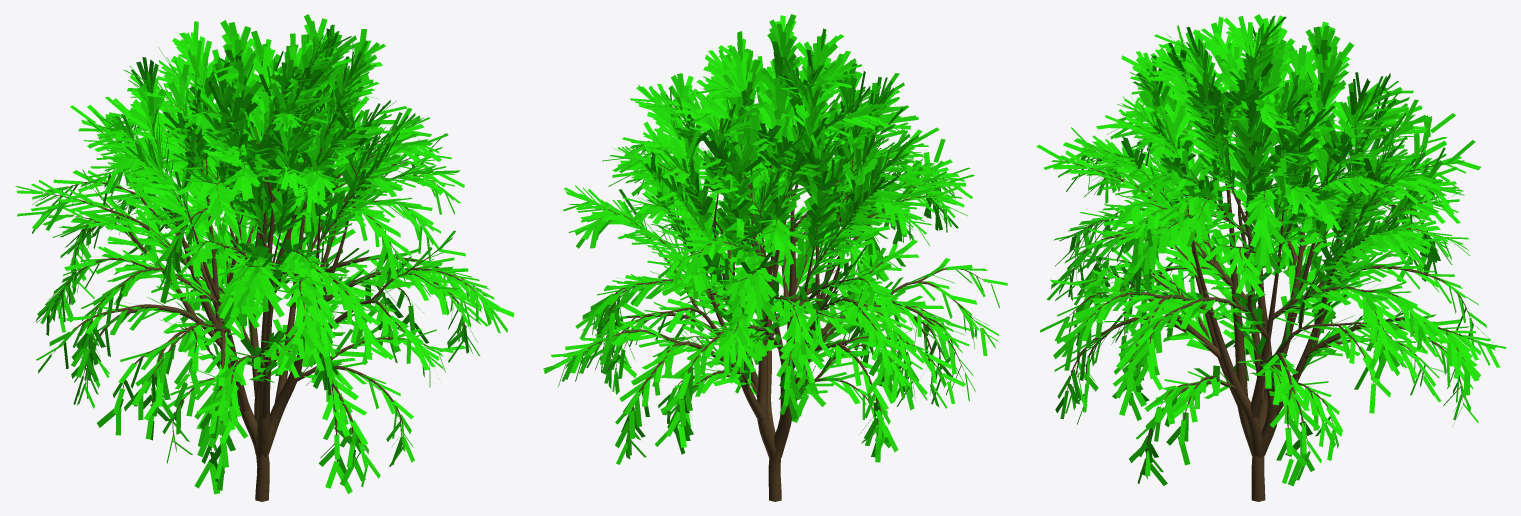
Rendered from Tree.fbx.
3 renders of one model, left to right at view 1: azimuth 30°, elevation 25°; view 2: azimuth 150°, elevation 25°; view 3: azimuth 270°, elevation 25°, orthographic. The views are drawn at different scales.
Visible parts, largest first — view 1: leaves; view 2: leaves; view 3: leaves.
Boxes of the visible parts, left/top/right/bottom form: leaves: left=15, top=14, right=514, bottom=501; leaves: left=543, top=14, right=1007, bottom=501; leaves: left=1036, top=14, right=1506, bottom=501.
Bounding box in the file's own units: 579 × 684 × 607.
